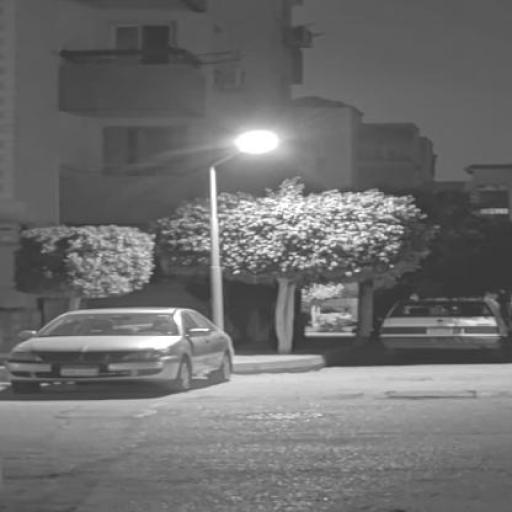street light: (206, 132, 278, 358)
